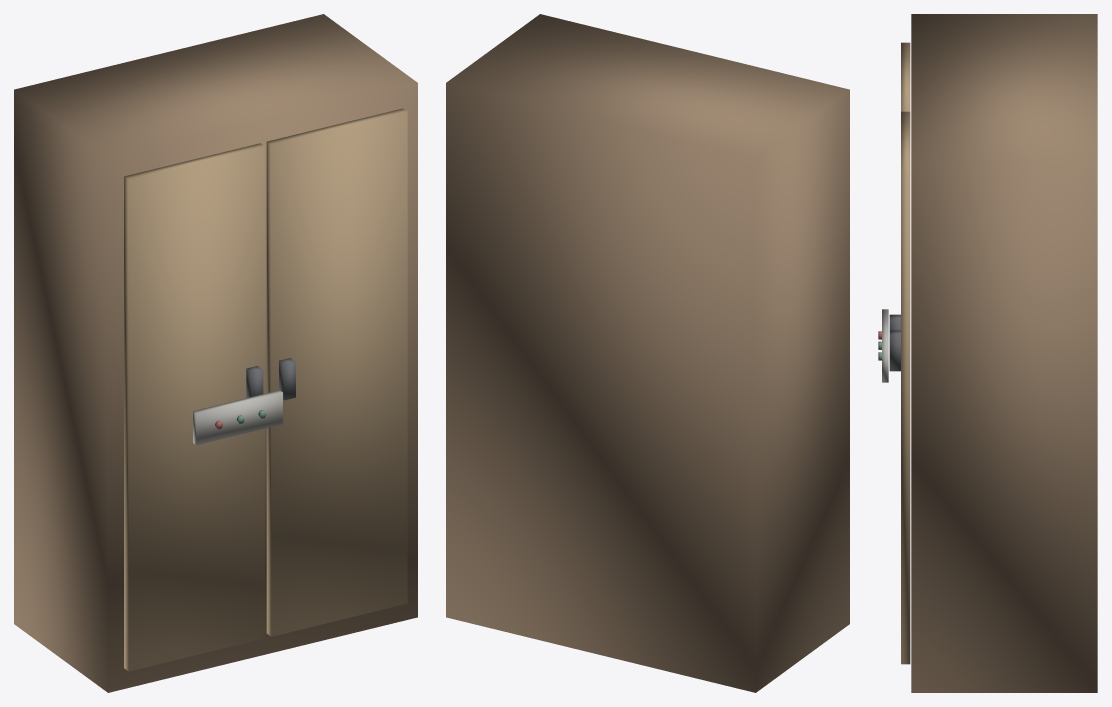
File: kitchen_base_cabinet__tall.glb
3 renders of one model, left to right at view 1: azimuth 30°, elevation 25°; view 2: azimuth 150°, elevation 25°; view 3: azimuth 270°, elevation 25°, orthographic.
Parts seen in each view (by area): view 1: world; view 2: world; view 3: world.
Boxes of the visible parts, x1,y1,x2,y2 form: world: [14, 14, 417, 692]; world: [446, 14, 849, 692]; world: [878, 14, 1097, 692].
Bounding box in the file's own units: 0.95 × 1.57 × 0.5885.
